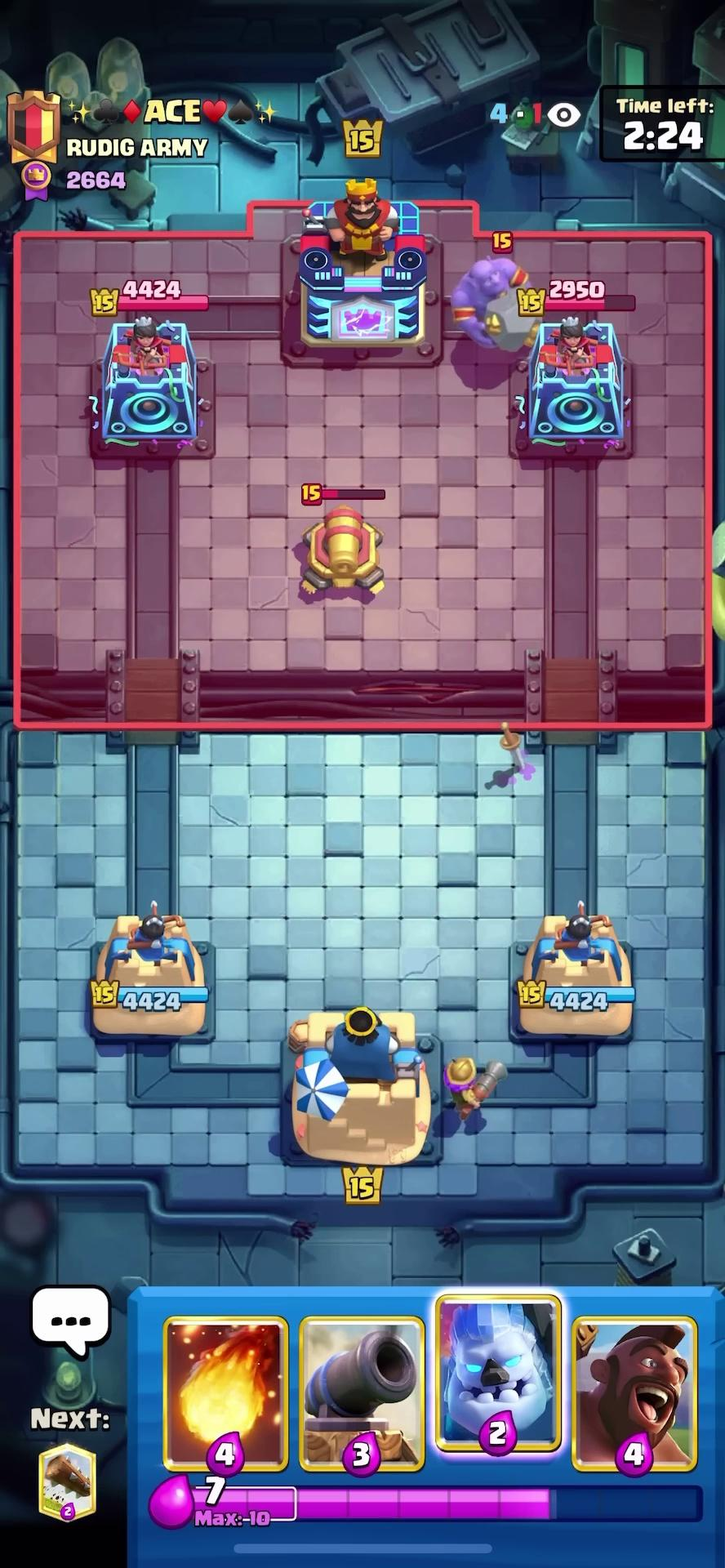musketeer: (427, 1039, 510, 1119)
